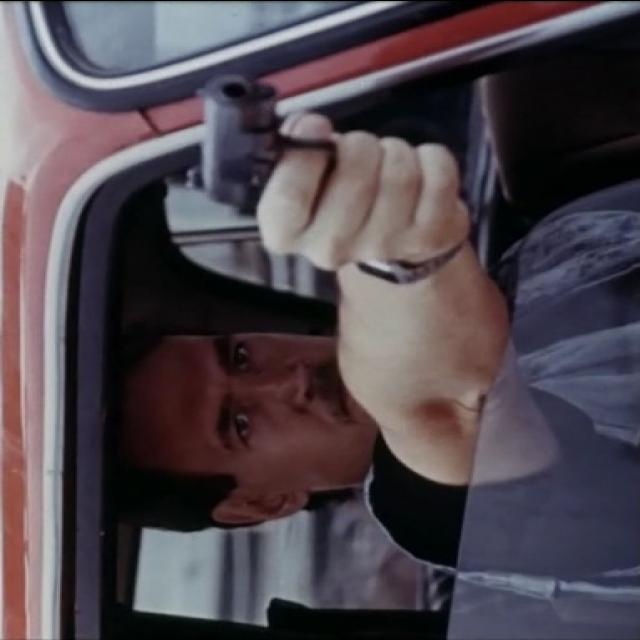weapons: (182, 48, 400, 258)
